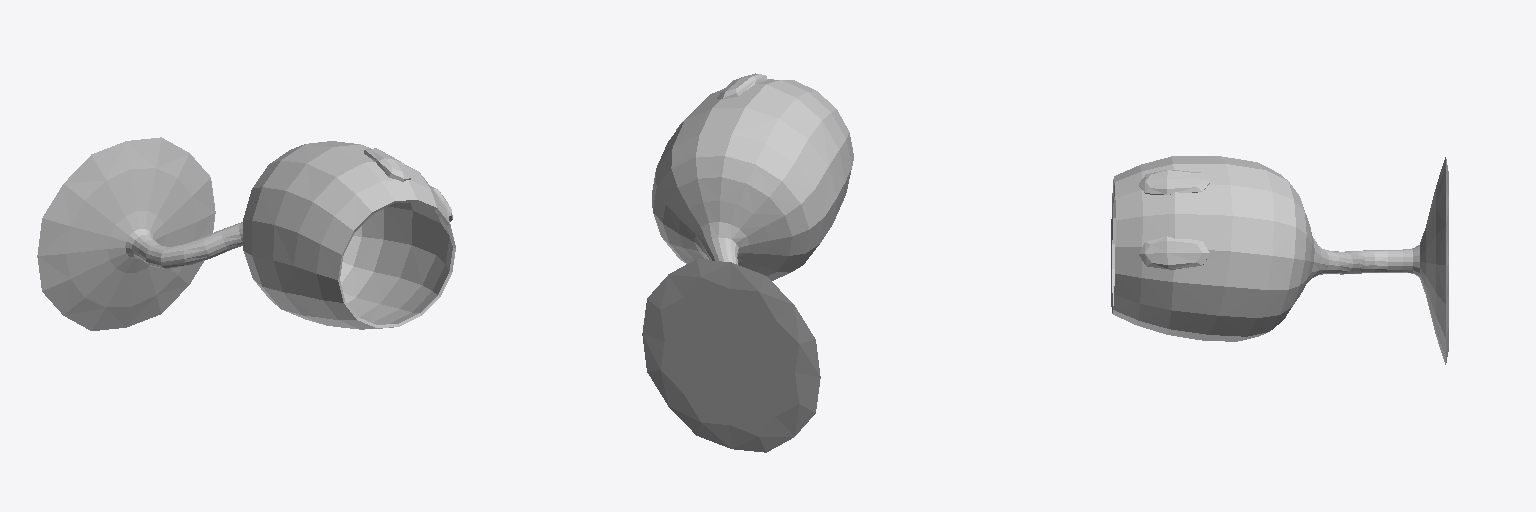
Rendered from animation_000011.obj.
3 renders of one model, left to right at view 1: azimuth 30°, elevation 25°; view 2: azimuth 150°, elevation 25°; view 3: azimuth 270°, elevation 25°, orthographic.
Size of the model in its own units: 3.14 by 2.68 by 3.39.